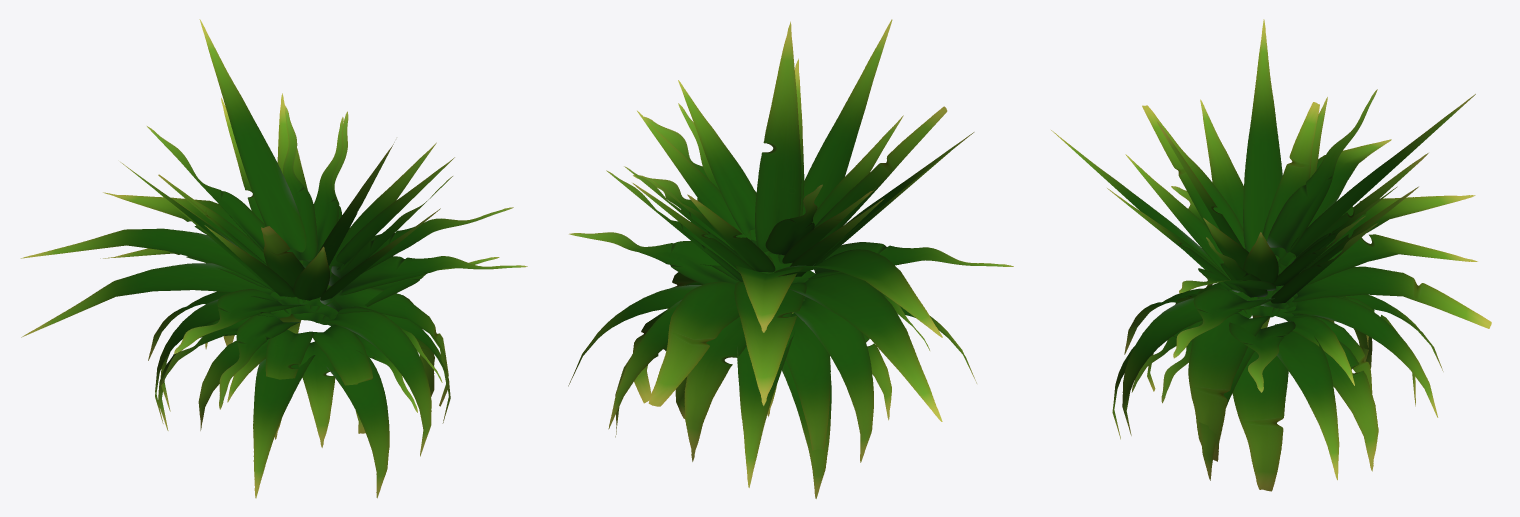
File: Foliage_Yucca_v01.fbx
3 renders of one model, left to right at view 1: azimuth 30°, elevation 25°; view 2: azimuth 150°, elevation 25°; view 3: azimuth 270°, elevation 25°, orthographic. The views are drawn at different scales.
Parts seen in each view (by area): view 1: low_Yucca_01; view 2: low_Yucca_01; view 3: low_Yucca_01.
Part boxes in pixels (x1,y1,x2,y2): low_Yucca_01: [20, 19, 527, 498]; low_Yucca_01: [568, 19, 1013, 498]; low_Yucca_01: [1051, 19, 1491, 491].
Size of the model in its own units: 2.18 by 1.78 by 2.09.
